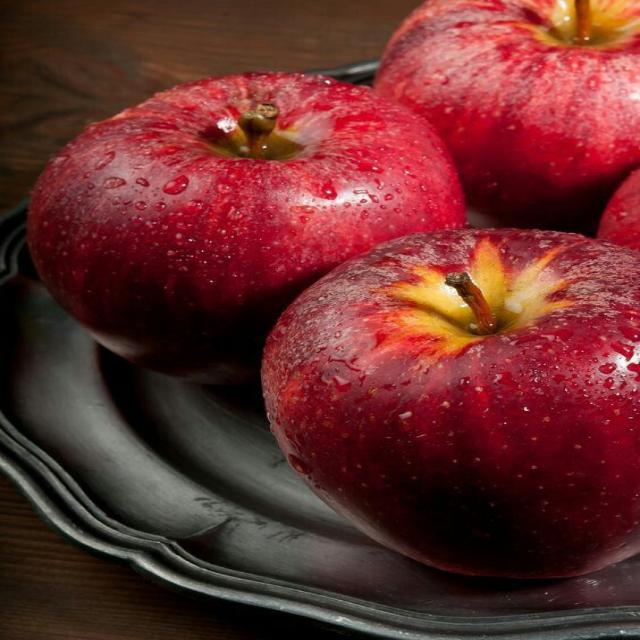apple: (29, 74, 465, 382), (263, 230, 639, 578), (376, 0, 639, 232), (599, 169, 639, 250)
